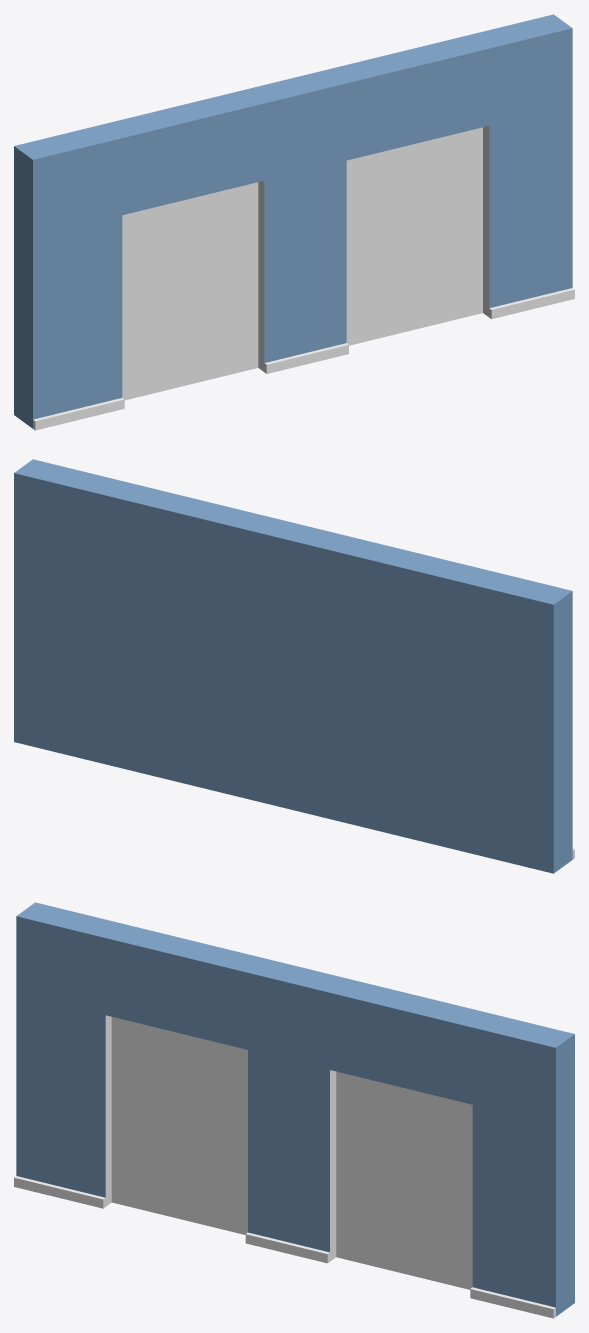
The model's file is Wall 1.fbx.
3 views of the same model, one above another, from view 1: azimuth 30°, elevation 25°; view 2: azimuth 150°, elevation 25°; view 3: azimuth 330°, elevation 25° (orthographic).
Parts seen in each view (by area): view 1: wall 1; view 2: wall 1; view 3: wall 1.
Part boxes in pixels (x1,y1,x2,y2): wall 1: (14,14,574,430); wall 1: (14,459,574,873); wall 1: (14,902,574,1318).
Size of the model in its own units: 535 by 255 by 36.52.
Materials: 2 (1 with a texture image).
